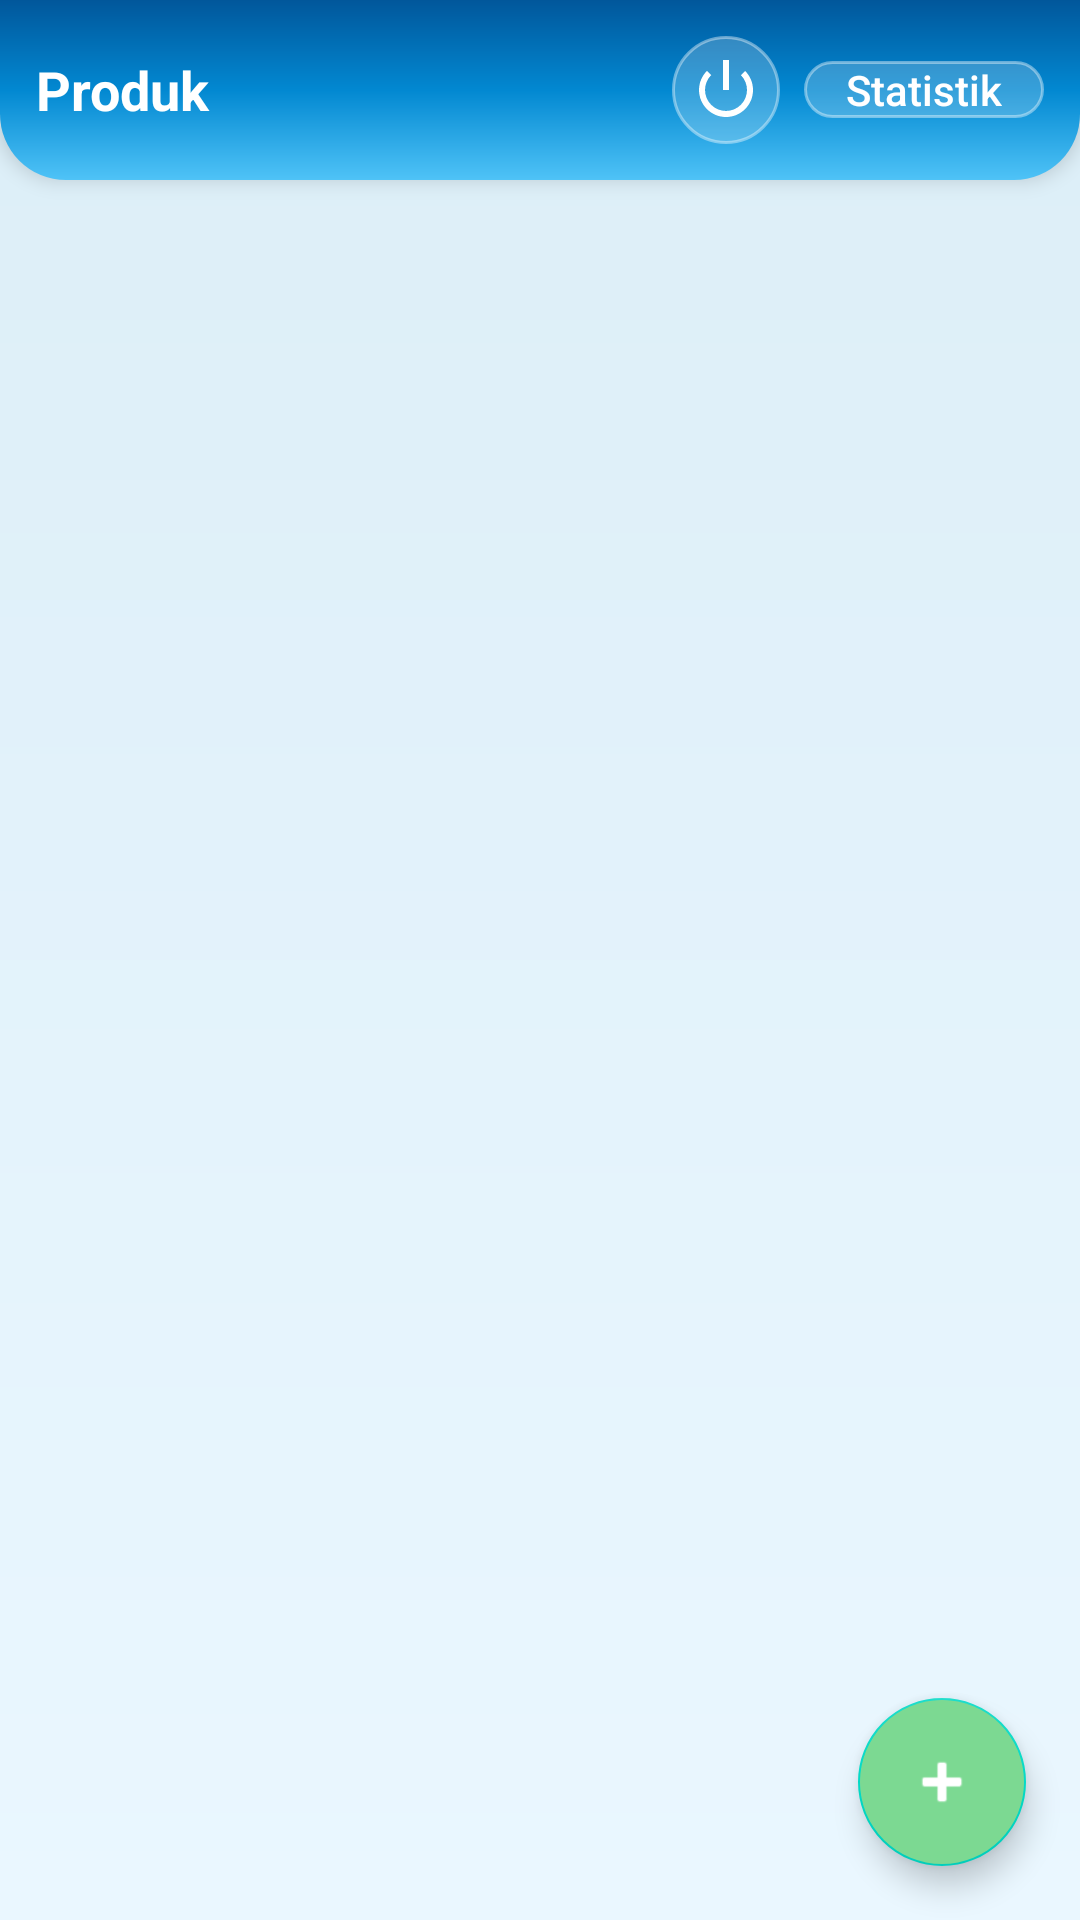

Named icons in this screenshot (1080*1920) and their bounding boxes, (x1, y1, x2, y2):
Tambah Produk: (858, 1698, 1026, 1866)
